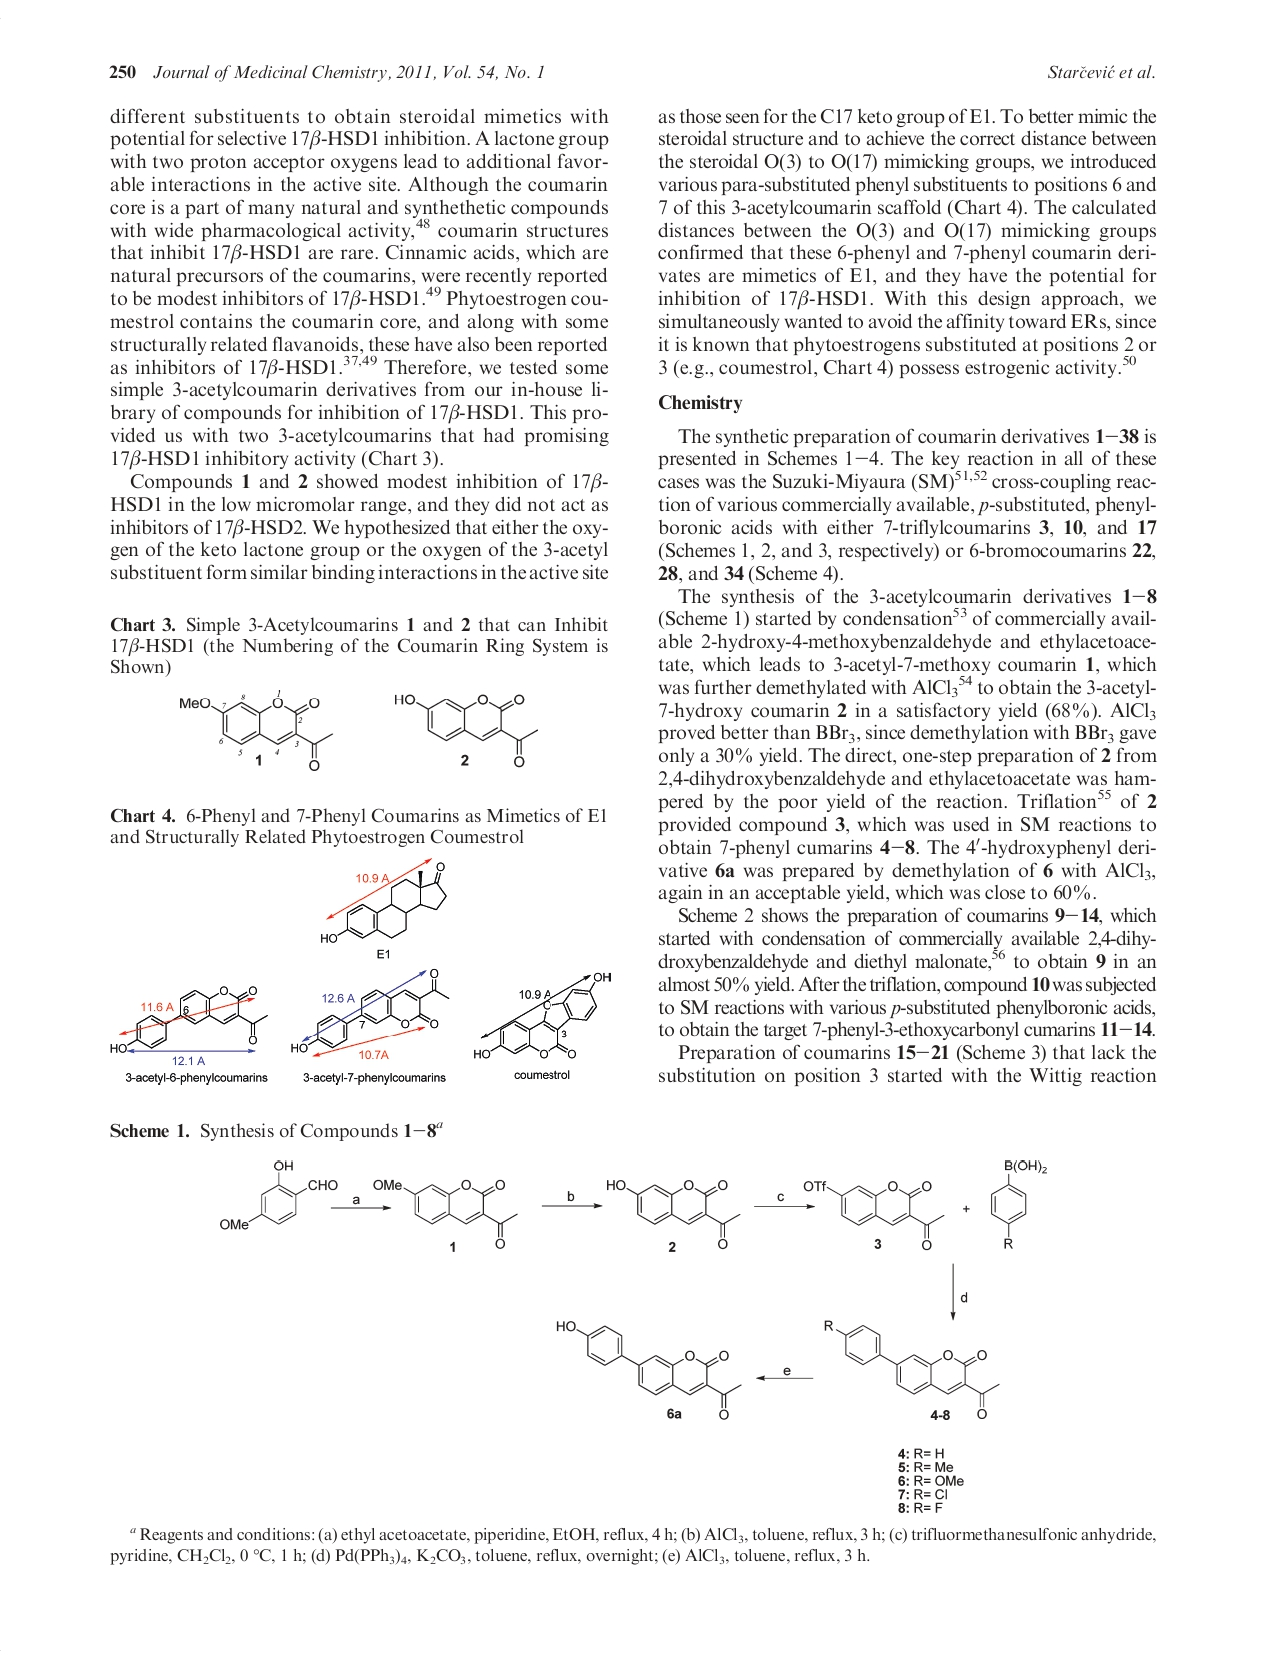exist_molecular: (551, 1318, 745, 1426), (823, 1315, 1001, 1422), (290, 967, 451, 1053), (177, 689, 334, 774), (469, 969, 614, 1061), (394, 686, 541, 773), (106, 983, 269, 1055), (372, 1174, 521, 1251), (318, 859, 449, 944), (801, 1180, 948, 1253), (602, 1177, 743, 1251), (217, 1157, 336, 1233), (989, 1154, 1047, 1251)
